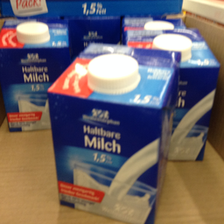milk: (42, 42, 185, 224), (3, 18, 71, 135)
